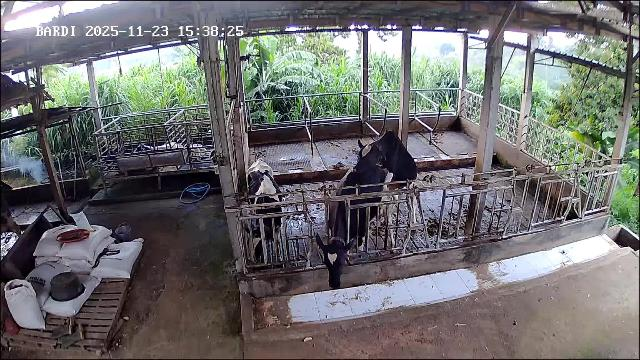mounting: (353, 129, 419, 225)
